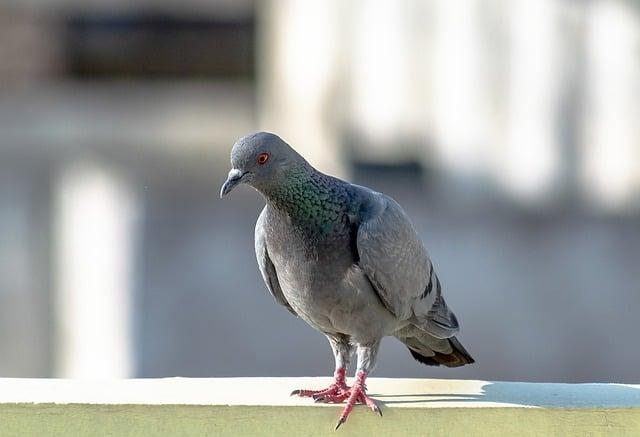Flying Rat: (218, 134, 475, 416)
